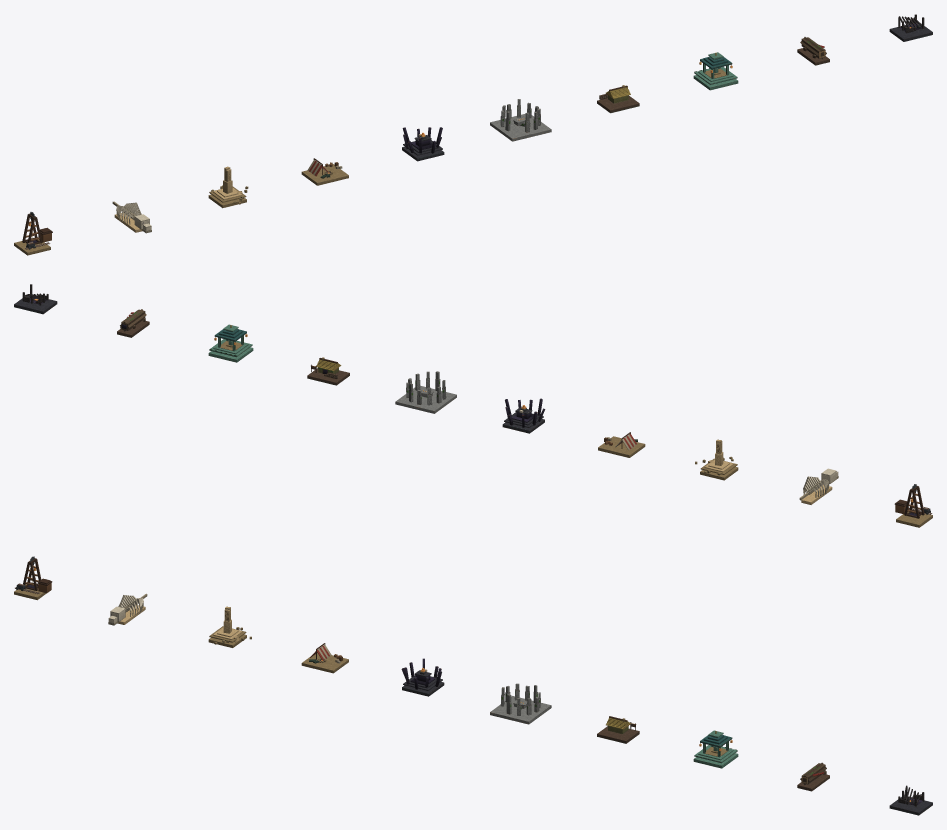
Rendered from pois.gltf.
3 views of the same model, one above another, from view 1: azimuth 30°, elevation 25°; view 2: azimuth 150°, elevation 25°; view 3: azimuth 330°, elevation 25° (orthographic).
Parts seen in each view (by area): view 1: stone_circle_footing0, caravan_camp_footing0; view 2: stone_circle_footing0; view 3: stone_circle_footing0.
Part boxes in pixels (x1=…): stone_circle_footing0: x1=490, y1=113, x2=551, y2=141; caravan_camp_footing0: x1=301, y1=164, x2=348, y2=185; stone_circle_footing0: x1=395, y1=385, x2=456, y2=413; stone_circle_footing0: x1=490, y1=696, x2=551, y2=724.
Bounding box in the file's own units: 232 × 8.77 × 15.75.
1 material, 1 textured.
